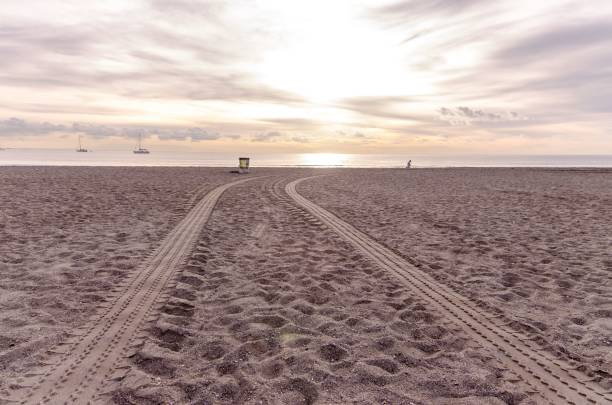vehicle_track: (285, 177, 611, 404), (11, 178, 252, 403)
